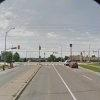Car: (63, 58, 77, 68)
